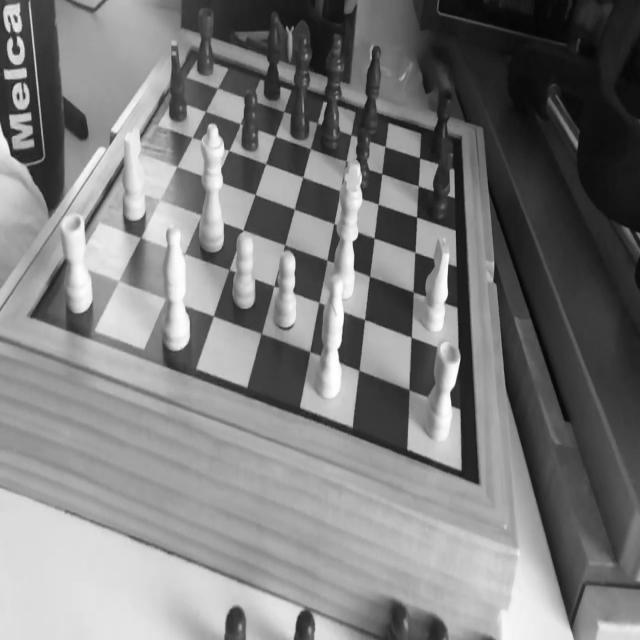chess-table-corners: (462, 466, 486, 496), (23, 298, 41, 330), (184, 34, 199, 57), (454, 124, 466, 150)
